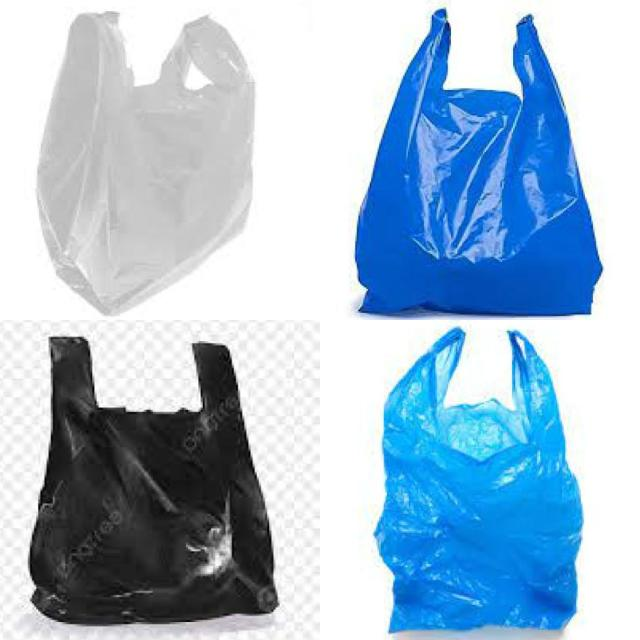Single-layer Plastic: (356, 10, 601, 314), (30, 338, 278, 624), (38, 12, 254, 314), (375, 329, 582, 631)
